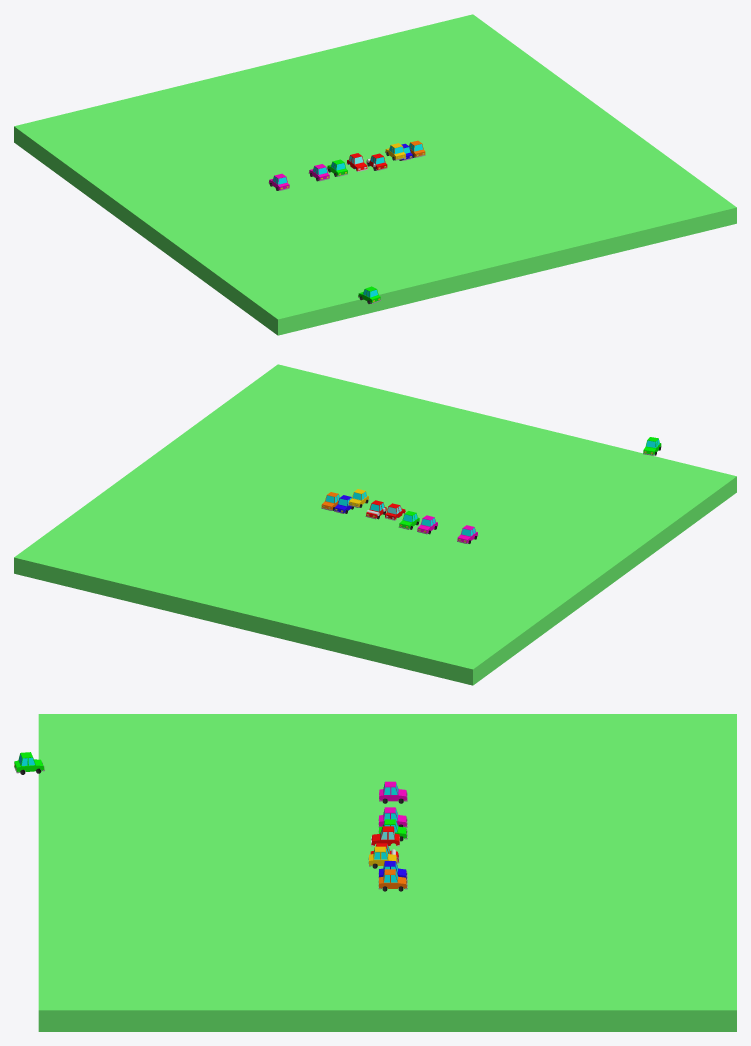
The model's file is Gotthard_3.2.glb.
3 renders of one model, top to bottom at view 1: azimuth 30°, elevation 25°; view 2: azimuth 150°, elevation 25°; view 3: azimuth 270°, elevation 25°, orthographic. The views are drawn at different scales.
Visible parts, largest first — view 1: Erde; view 2: Erde; view 3: Erde.
Part boxes in pixels (left/top/right/bottom): Erde: left=14, top=14, right=736, bottom=335; Erde: left=14, top=364, right=736, bottom=685; Erde: left=38, top=714, right=736, bottom=1031.
Bounding box in the file's own units: 5.97 × 0.4365 × 6.16.
10 materials, 10 textured.
